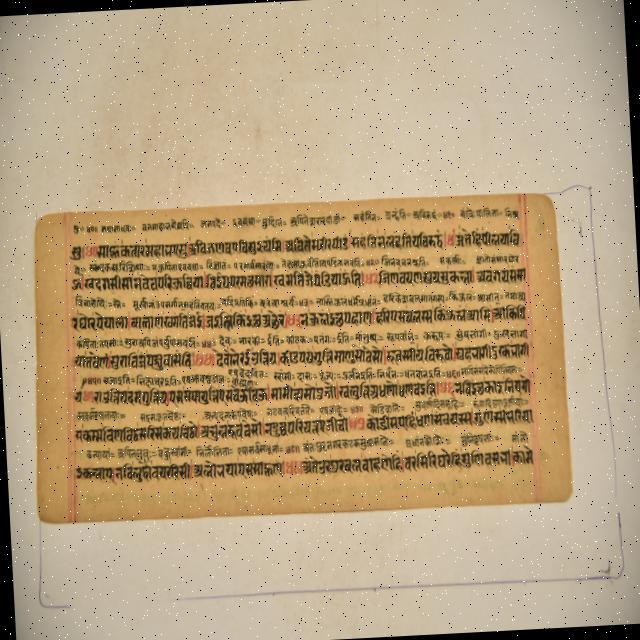text_paragraph: (35, 195, 571, 524)
